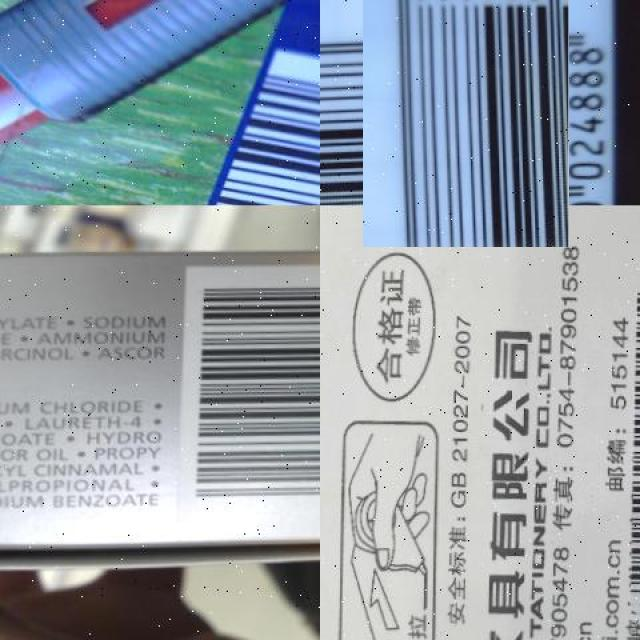Barcode: (342, 0, 590, 227), (183, 264, 320, 537), (132, 42, 320, 205), (624, 273, 640, 603)
